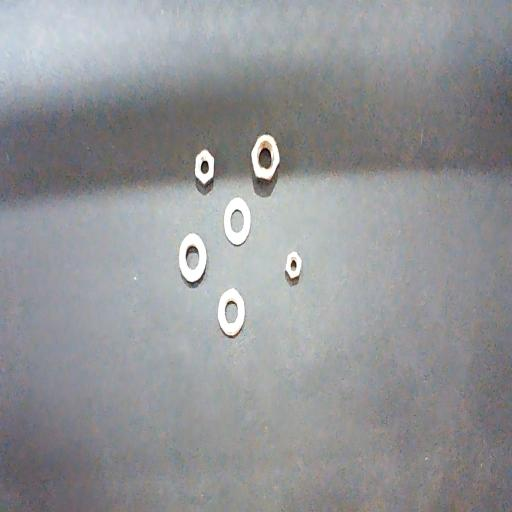nut: (250, 134, 280, 198), (195, 149, 214, 195), (284, 252, 302, 284)
washer: (179, 232, 207, 286), (223, 196, 251, 246), (218, 288, 245, 338)
